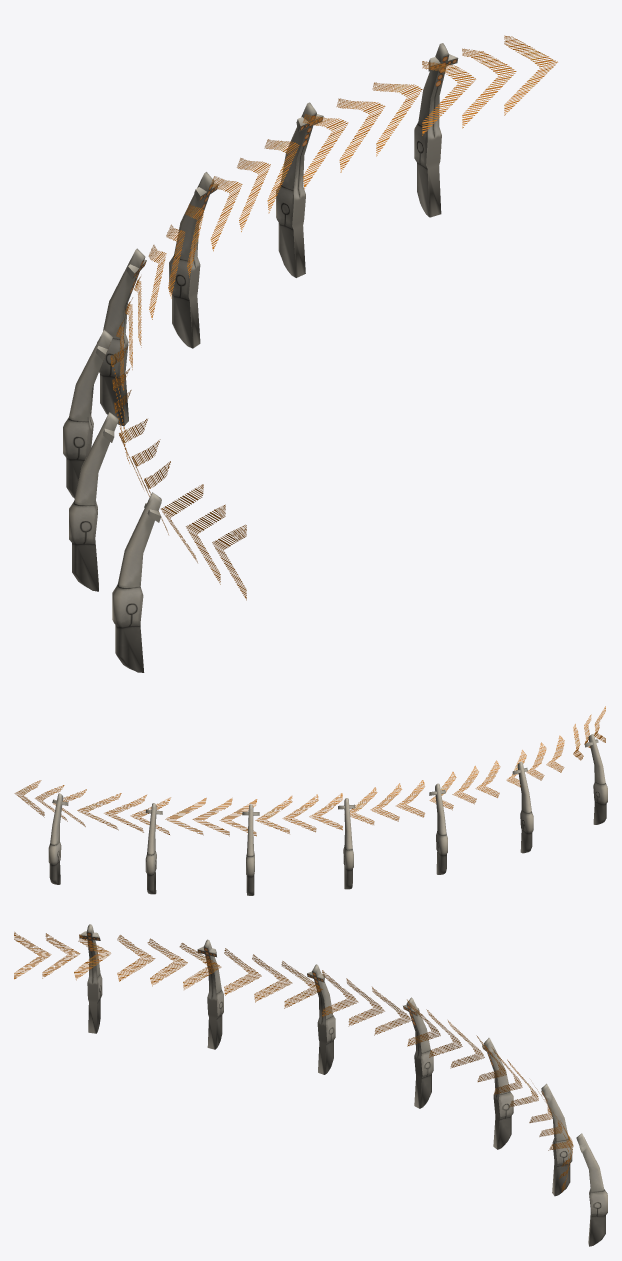
File: panneau_turn_medium.fbx
3 views of the same model, one above another, from view 1: azimuth 30°, elevation 25°; view 2: azimuth 150°, elevation 25°; view 3: azimuth 270°, elevation 25° (orthographic). The views are drawn at different scales.
Visible parts, largest first — view 1: panneau_turn_medium; view 2: panneau_turn_medium; view 3: panneau_turn_medium.
Part boxes in pixels (x1,y1,x2,y2): panneau_turn_medium: [63, 35, 557, 672]; panneau_turn_medium: [14, 706, 607, 895]; panneau_turn_medium: [14, 924, 607, 1246].
Size of the model in its own units: 49.69 by 11.02 by 49.48.
Materials: 2 (2 with a texture image).
